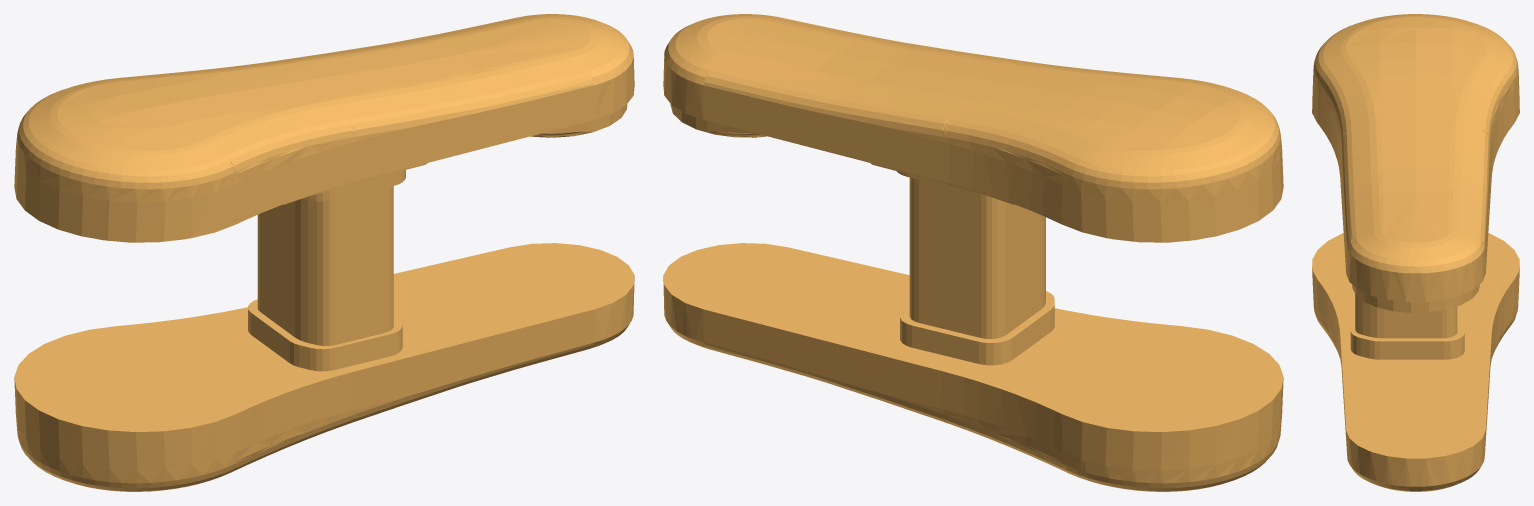
The model's file is IRB120Link2.dae.
3 renders of one model, left to right at view 1: azimuth 30°, elevation 25°; view 2: azimuth 150°, elevation 25°; view 3: azimuth 270°, elevation 25°, orthographic. The views are drawn at different scales.
Parts seen in each view (by area): view 1: IRB120Link2; view 2: IRB120Link2; view 3: IRB120Link2.
Boxes of the visible parts, bbox=[...] form: IRB120Link2: bbox=[14, 14, 634, 491]; IRB120Link2: bbox=[663, 14, 1283, 491]; IRB120Link2: bbox=[1312, 14, 1519, 491].
Bounding box in the file's own units: 0.3899 × 0.1441 × 0.2193.
